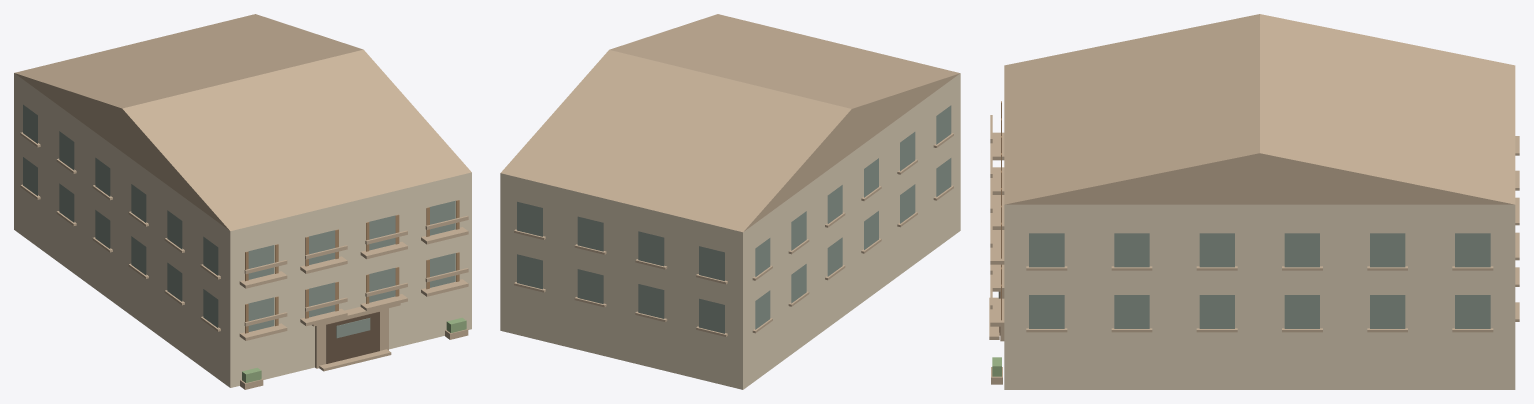
Rendered from residential_2x3_a.glb.
3 views of the same model, side by side, from view 1: azimuth 30°, elevation 25°; view 2: azimuth 150°, elevation 25°; view 3: azimuth 270°, elevation 25° (orthographic). The views are drawn at different scales.
Parts seen in each view (by area): view 1: residential_2x3_a_0; view 2: residential_2x3_a_0; view 3: residential_2x3_a_0.
Part boxes in pixels (bbox=[...]): residential_2x3_a_0: bbox=[14, 14, 471, 389]; residential_2x3_a_0: bbox=[500, 14, 960, 389]; residential_2x3_a_0: bbox=[989, 14, 1519, 389].
Size of the model in its own units: 14.86 by 11.5 by 23.33.
